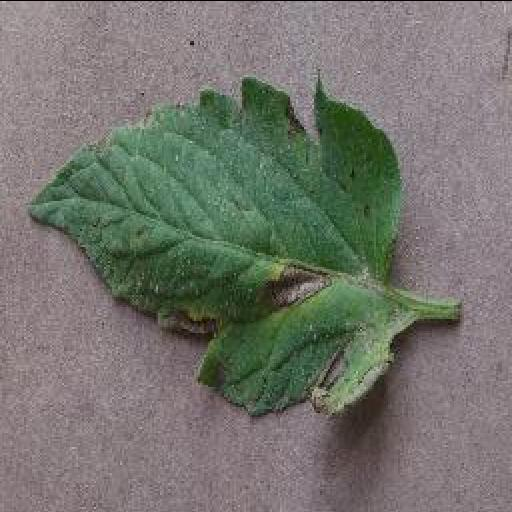disease_tomato: (29, 78, 407, 418)
